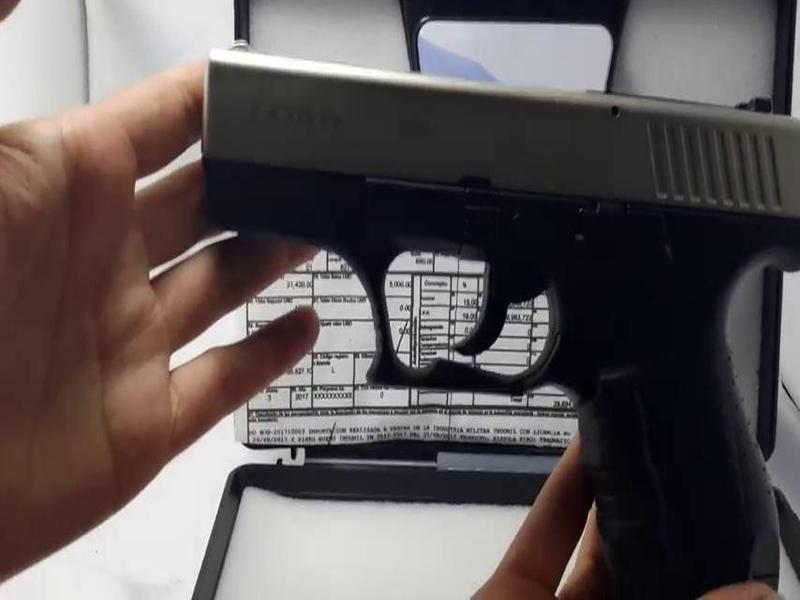Pistola: (177, 33, 800, 597)
